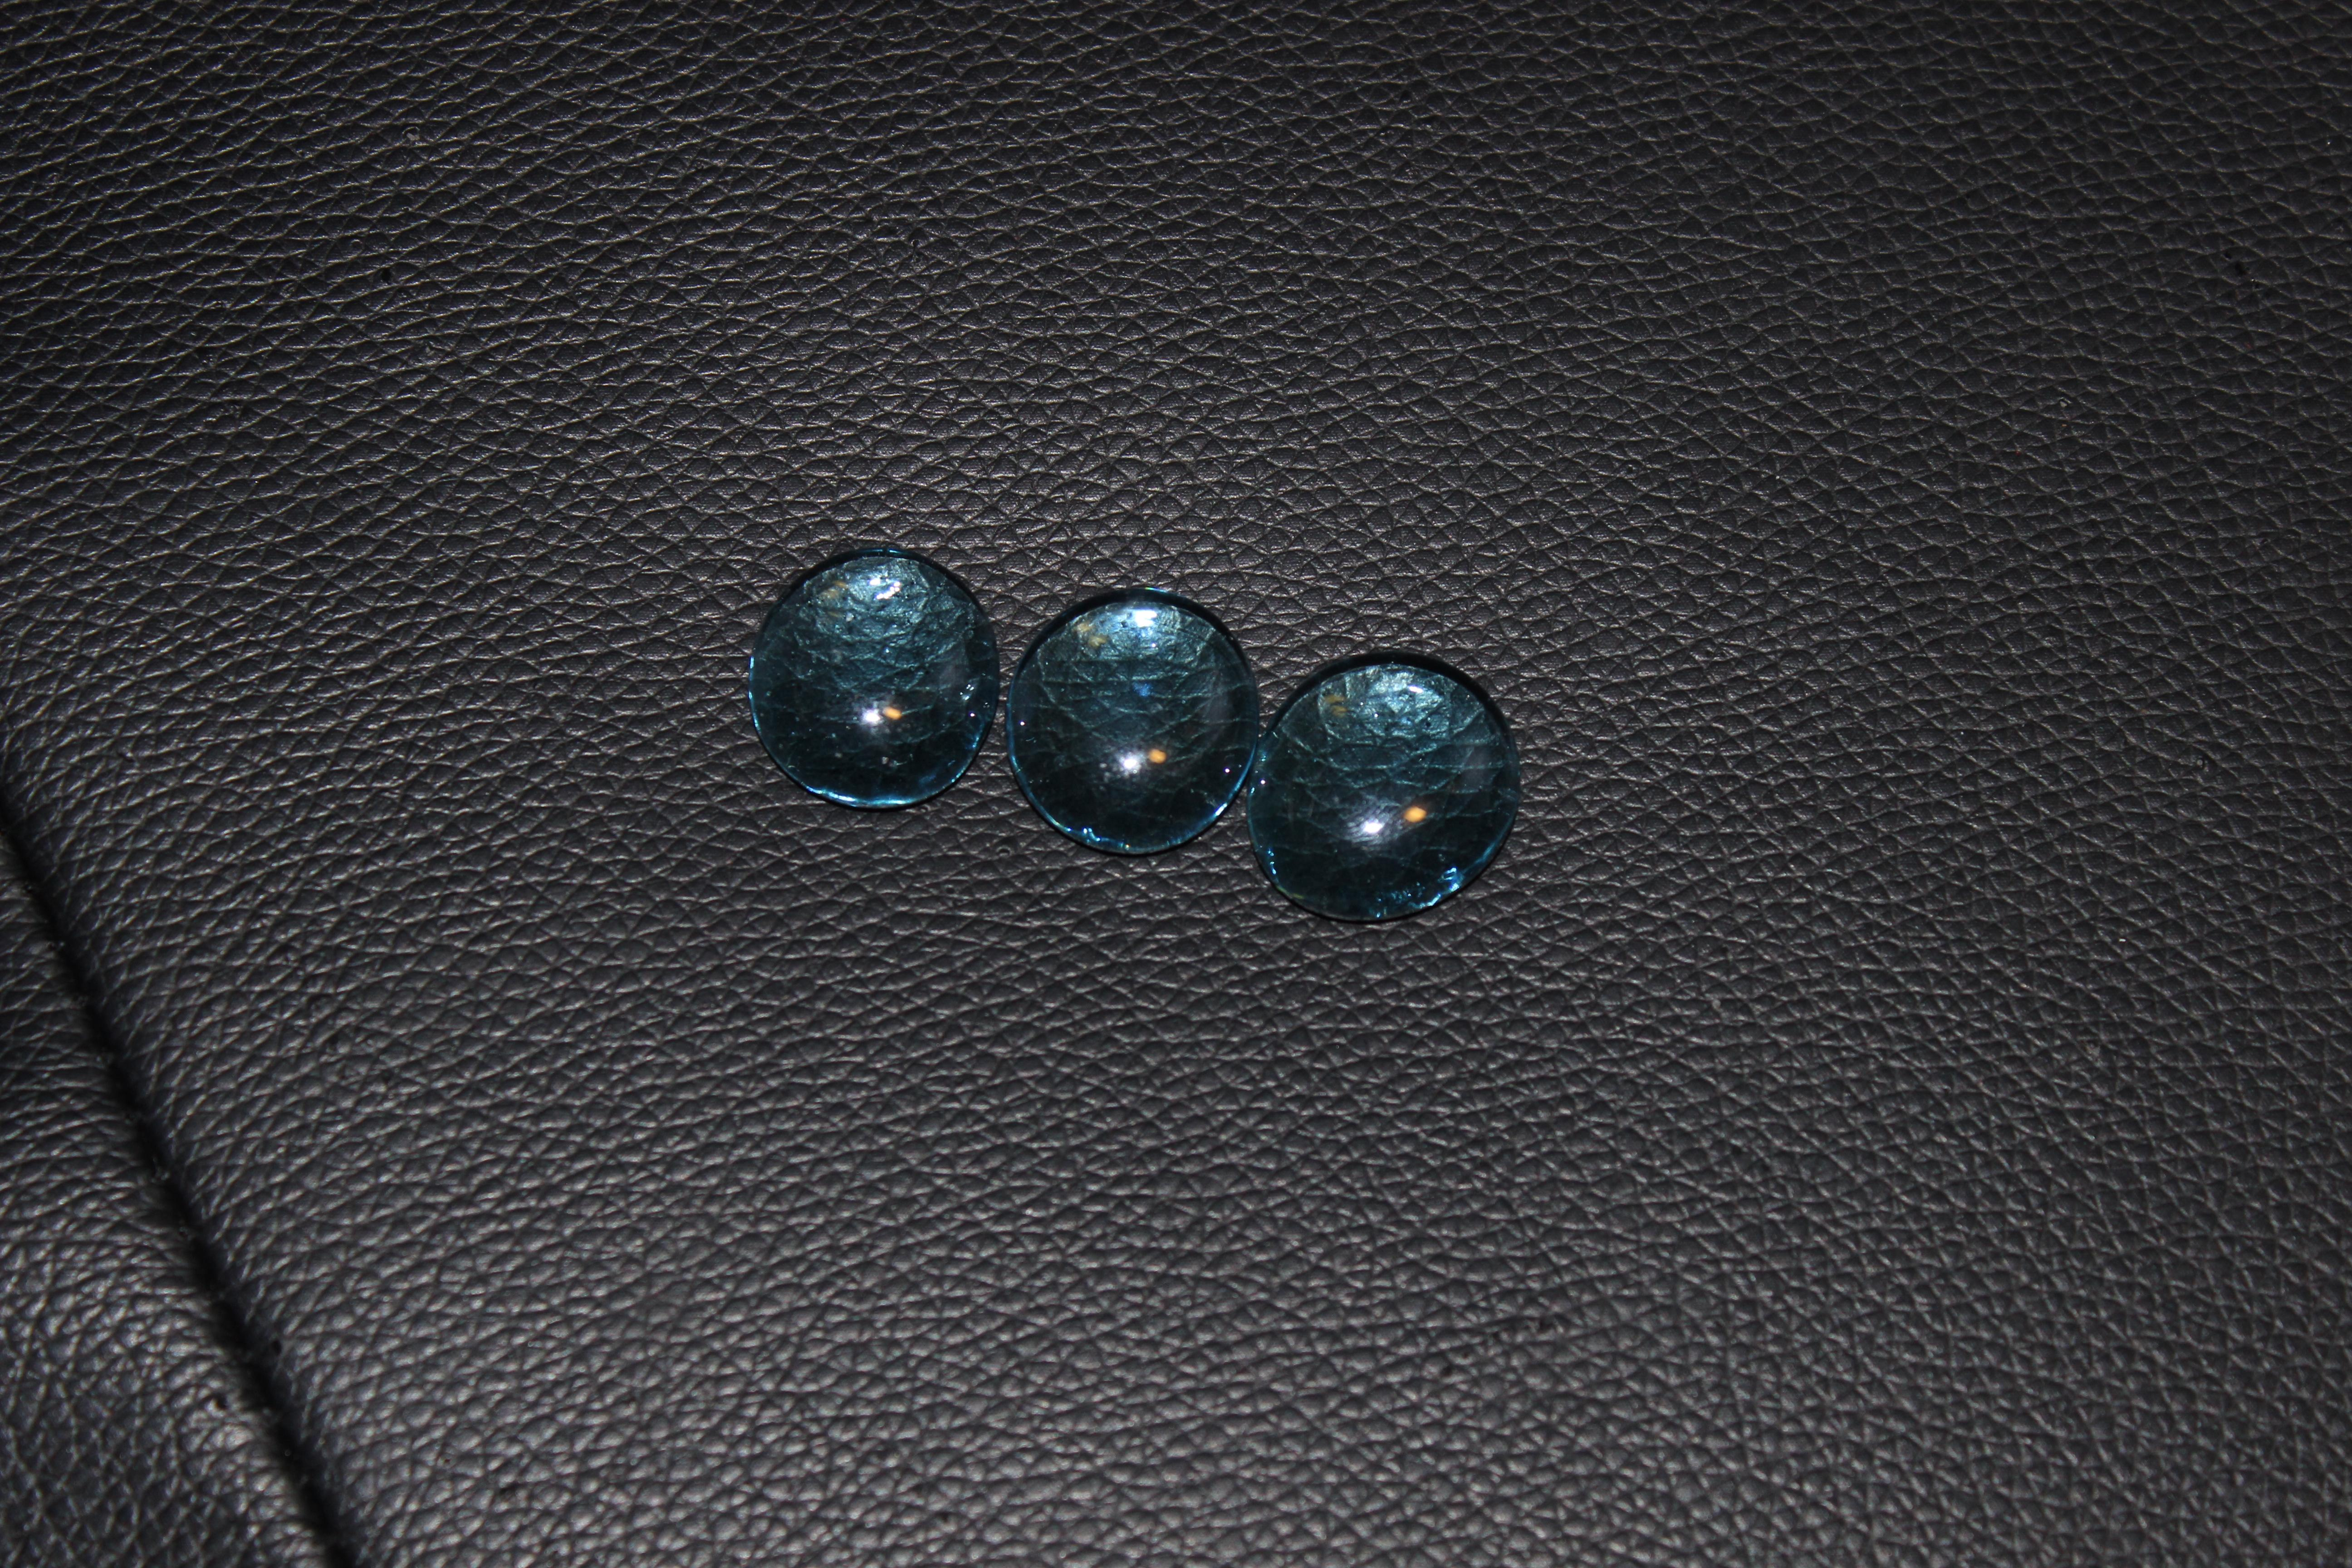glassBead: (1232, 626, 1540, 942), (731, 522, 1012, 829), (991, 576, 1270, 871)
